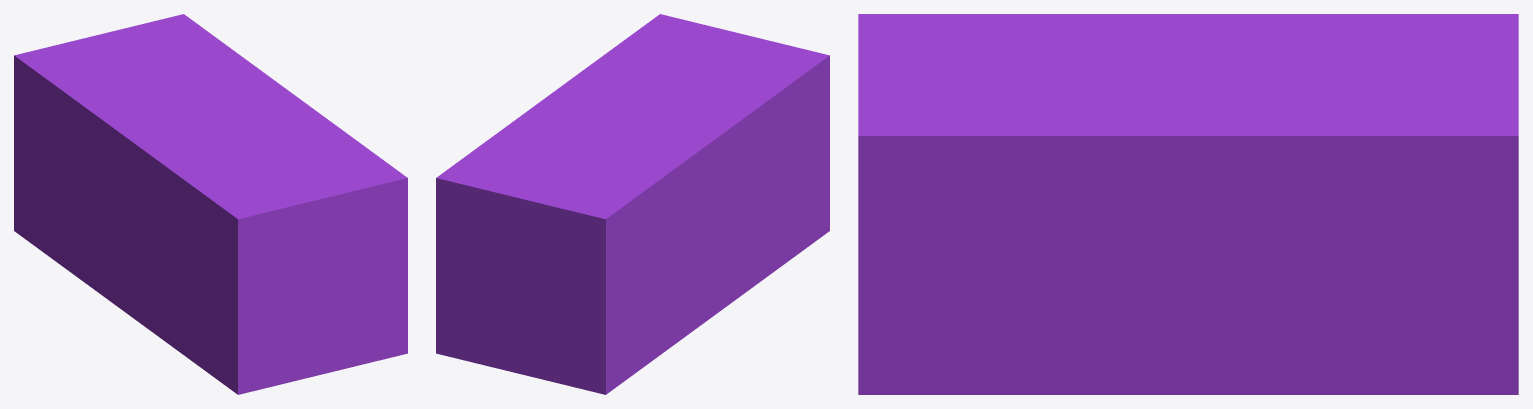
The model's file is ExhibitGlass_1.007_chunks.fbx.
The picture shows the model from 3 angles, left to right: view 1: azimuth 30°, elevation 25°; view 2: azimuth 150°, elevation 25°; view 3: azimuth 270°, elevation 25°; orthographic projection. The views are drawn at different scales.
Visible parts, largest first — view 1: ExhibitGlass_1.007_1, ExhibitGlass_1.007_0, ExhibitGlass_1.007_2, ExhibitGlass_1.007_6, ExhibitGlass_1.007_3, ExhibitGlass_1.007_4, ExhibitGlass_1.007_5; view 2: ExhibitGlass_1.007_0, ExhibitGlass_1.007_2, ExhibitGlass_1.007_6, ExhibitGlass_1.007_1, ExhibitGlass_1.007_3, ExhibitGlass_1.007_4, ExhibitGlass_1.007_5; view 3: ExhibitGlass_1.007_2, ExhibitGlass_1.007_0, ExhibitGlass_1.007_1, ExhibitGlass_1.007_6, ExhibitGlass_1.007_5, ExhibitGlass_1.007_3.
Part boxes in pixels (x1,y1,x2,y2): ExhibitGlass_1.007_1: (102, 230, 407, 394); ExhibitGlass_1.007_0: (14, 14, 236, 295); ExhibitGlass_1.007_2: (188, 53, 407, 282); ExhibitGlass_1.007_6: (42, 76, 246, 190); ExhibitGlass_1.007_3: (143, 162, 255, 278); ExhibitGlass_1.007_4: (63, 137, 172, 273); ExhibitGlass_1.007_5: (214, 148, 302, 264); ExhibitGlass_1.007_0: (436, 139, 700, 394); ExhibitGlass_1.007_2: (490, 14, 764, 139); ExhibitGlass_1.007_6: (587, 88, 751, 228); ExhibitGlass_1.007_1: (694, 115, 829, 329); ExhibitGlass_1.007_3: (735, 51, 829, 205); ExhibitGlass_1.007_4: (655, 166, 763, 293); ExhibitGlass_1.007_5: (679, 39, 811, 89); ExhibitGlass_1.007_2: (858, 60, 1361, 360); ExhibitGlass_1.007_0: (1203, 14, 1518, 394); ExhibitGlass_1.007_1: (858, 290, 1216, 394); ExhibitGlass_1.007_6: (1032, 14, 1435, 83); ExhibitGlass_1.007_5: (858, 26, 1067, 71); ExhibitGlass_1.007_3: (858, 14, 1087, 38).
Bounding box in the file's own units: 270 × 267 × 618.
